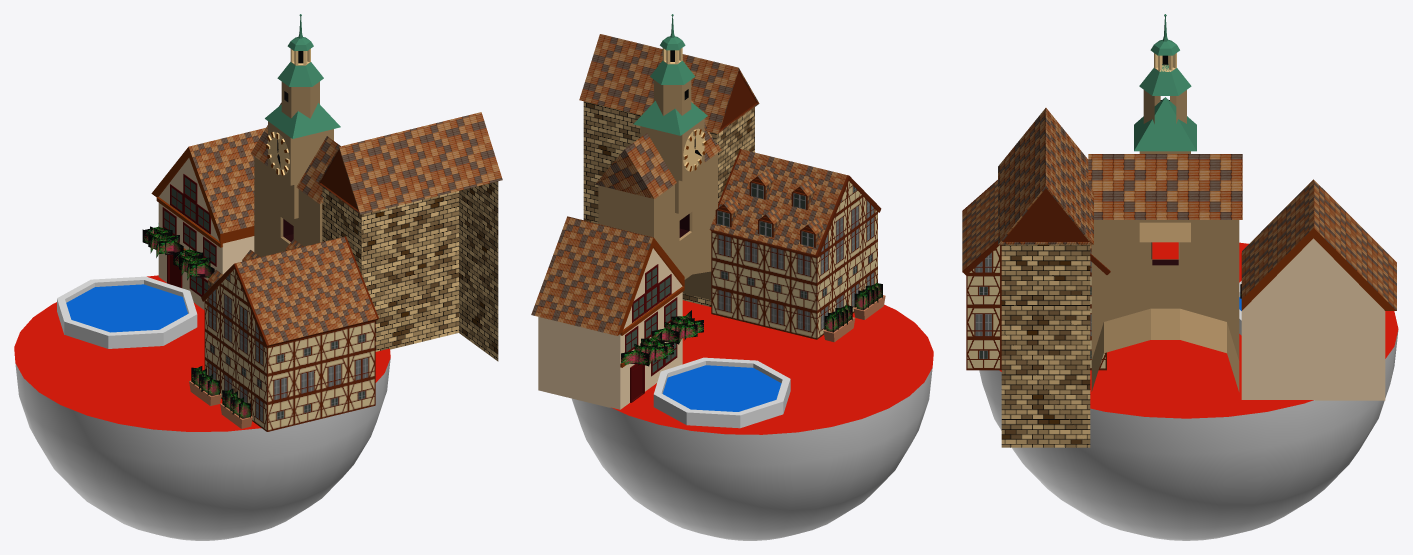
The model's file is town_select.fbx.
3 views of the same model, side by side, from view 1: azimuth 30°, elevation 25°; view 2: azimuth 150°, elevation 25°; view 3: azimuth 270°, elevation 25° (orthographic). The views are drawn at different scales.
Visible parts, largest first — view 1: 立方体.004, 立方体.009, Cube, 立方体.013, Cube.007, Cube.001, 円柱, 円柱.001, 立方体, 立方体.011, 立方体.012, 立方体.003 (+4 smaller); view 2: 立方体.004, Cube.007, Cube, 立方体.013, Cube.001, 立方体, 立方体.009, 円柱, 円柱.001, 立方体.012, 立方体.011, 立方体.008 (+6 smaller); view 3: 立方体.004, Cube.007, 立方体.009, 立方体, 立方体.013, 立方体.012, Cube, Cube.001, 立方体.003, 立方体.001, 立方体.010, 立方体.007.
Part boxes in pixels (<box>): 立方体.004: <box>14,275,390,540</box>; 立方体.009: <box>322,181,498,361</box>; Cube: <box>204,269,375,431</box>; 立方体.013: <box>318,112,502,214</box>; Cube.007: <box>151,128,265,309</box>; Cube.001: <box>201,236,378,347</box>; 円柱: <box>66,284,187,332</box>; 円柱.001: <box>57,276,197,348</box>; 立方体: <box>254,157,322,256</box>; 立方体.011: <box>268,121,333,185</box>; 立方体.012: <box>250,102,340,203</box>; 立方体.003: <box>265,103,340,138</box>; 立方体.004: <box>572,300,933,540</box>; Cube.007: <box>531,216,684,409</box>; Cube: <box>711,181,877,339</box>; 立方体.013: <box>579,34,759,133</box>; Cube.001: <box>709,149,881,257</box>; 立方体: <box>598,153,717,299</box>; 立方体.009: <box>583,101,754,306</box>; 円柱: <box>662,365,781,411</box>; 円柱.001: <box>653,357,790,428</box>; 立方体.012: <box>595,100,721,198</box>; 立方体.011: <box>640,118,704,181</box>; 立方体.008: <box>715,196,823,247</box>; 立方体.004: <box>979,242,1398,540</box>; Cube.007: <box>1241,179,1396,400</box>; 立方体.009: <box>1001,244,1090,447</box>; 立方体: <box>1091,220,1239,391</box>; 立方体.013: <box>998,108,1093,244</box>; 立方体.012: <box>1088,154,1242,219</box>; Cube: <box>966,244,1106,370</box>; Cube.001: <box>962,180,1110,275</box>; 立方体.003: <box>1134,97,1196,151</box>; 立方体.001: <box>1139,64,1191,95</box>; 立方体.010: <box>1139,222,1190,242</box>; 立方体.007: <box>1143,90,1186,123</box>.
Bounding box in the file's own units: 368 × 457 × 325.
